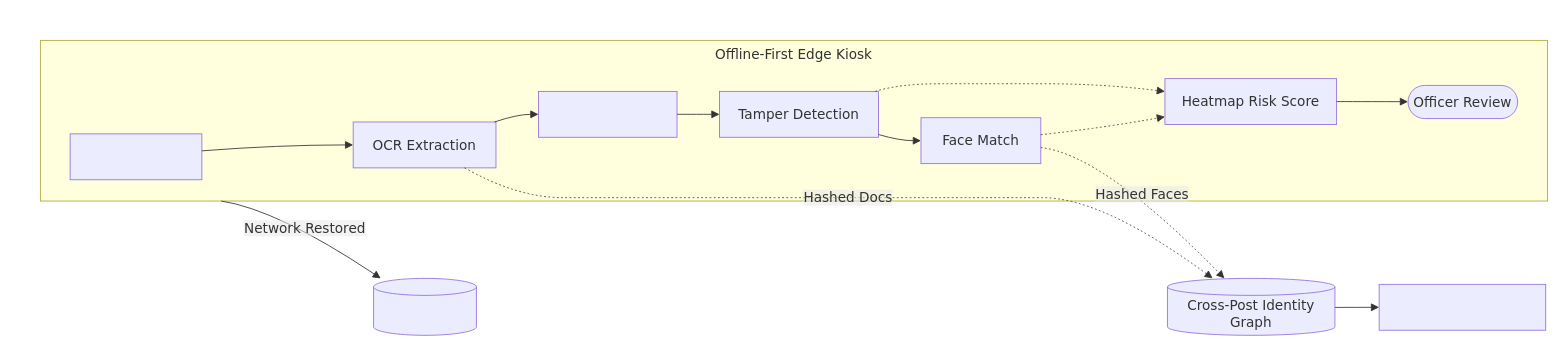
Image size: 1562x350. Some labels were removed from this diagram. Here are the shapes that lost their labels. From the top down, the centre of each, then its label:
[607,114]: Doc Validation
[135,156]: Capture Data
[424,306]: Central Ledger
[1462,306]: Flag Multi-ID Fraud
